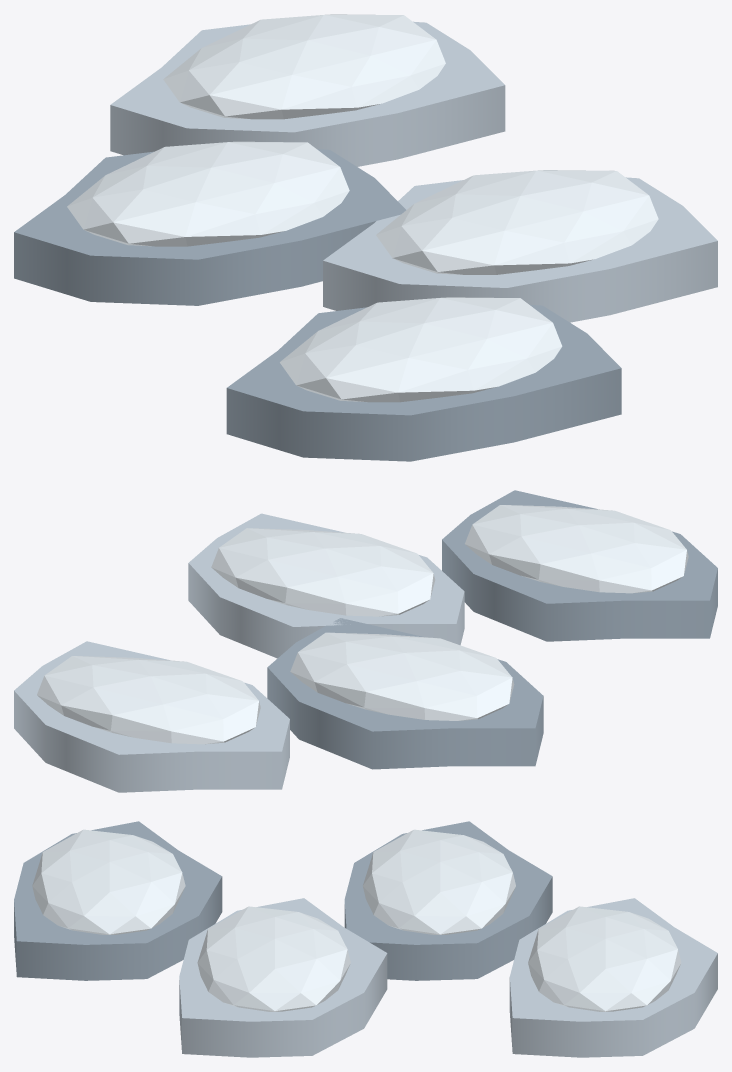
The model's file is path-stones-snowy.glb.
The picture shows the model from 3 angles, top to bottom: view 1: azimuth 30°, elevation 25°; view 2: azimuth 150°, elevation 25°; view 3: azimuth 270°, elevation 25°; orthographic projection. The views are drawn at different scales.
Visible parts, largest first — view 1: path-stones-kit-snowy-top, path-stones-kit-snowy-stone, path-stones-kit-snowy-light; view 2: path-stones-kit-snowy-top, path-stones-kit-snowy-stone, path-stones-kit-snowy-light; view 3: path-stones-kit-snowy-top, path-stones-kit-snowy-light, path-stones-kit-snowy-stone.
Part boxes in pixels (x1,y1,x2,y2): path-stones-kit-snowy-top: (67, 14, 658, 402); path-stones-kit-snowy-stone: (14, 149, 621, 461); path-stones-kit-snowy-light: (110, 21, 717, 322); path-stones-kit-snowy-top: (37, 505, 688, 744); path-stones-kit-snowy-stone: (267, 490, 717, 769); path-stones-kit-snowy-light: (14, 513, 464, 792); path-stones-kit-snowy-top: (32, 829, 681, 1011); path-stones-kit-snowy-light: (179, 898, 717, 1057); path-stones-kit-snowy-stone: (14, 821, 552, 980).
Size of the model in its own units: 1.44 by 0.2099 by 2.13.
